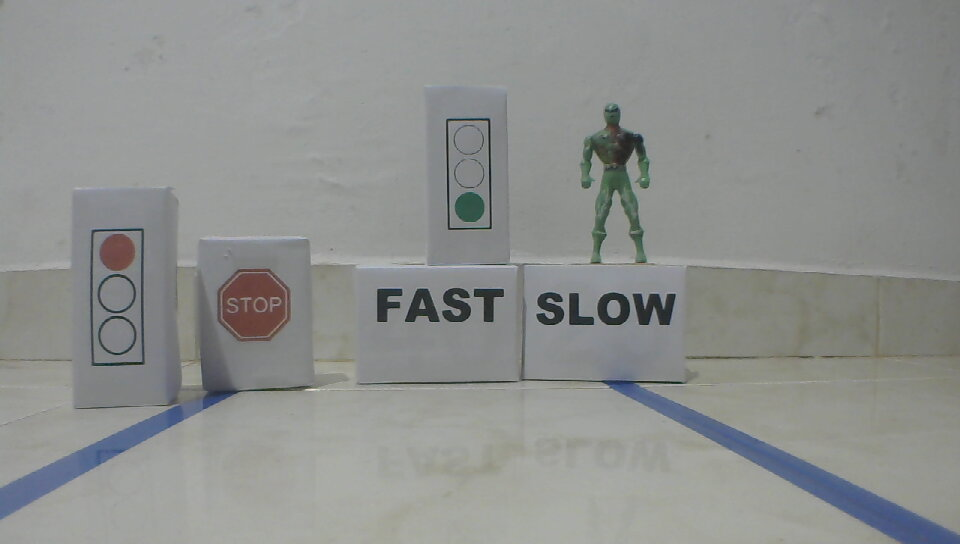Fast: (375, 285, 507, 325)
Green Traffic Light: (444, 115, 495, 231)
Person: (577, 99, 656, 267)
Red Traffic Light: (89, 225, 149, 370)
Slow: (534, 289, 679, 330)
Stop Sign: (215, 268, 291, 343)
